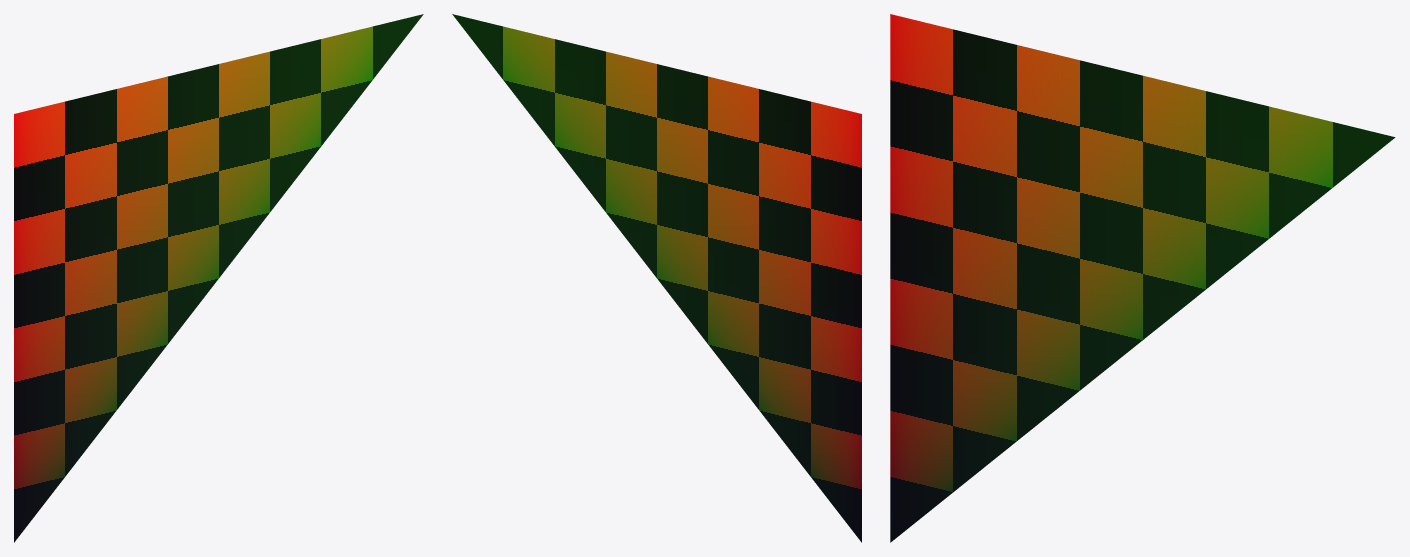
The model's file is tri.gltf.
The picture shows the model from 3 angles, left to right: view 1: azimuth 30°, elevation 25°; view 2: azimuth 150°, elevation 25°; view 3: azimuth 330°, elevation 25°; orthographic projection. The views are drawn at different scales.
Visible parts, largest first — view 1: child; view 2: child; view 3: child.
Part boxes in pixels (left/top/right/bottom): child: left=14, top=14, right=423, bottom=542; child: left=452, top=14, right=861, bottom=542; child: left=890, top=14, right=1395, bottom=542.
Size of the model in its own units: 2 by 2 by 4.44e-16.
1 material, 1 textured.
